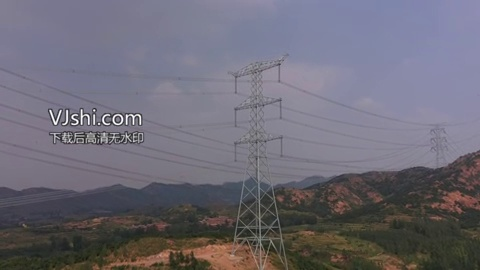tower_body: (223, 52, 301, 270)
tower_foot: (230, 217, 291, 268)
tower_head: (226, 54, 291, 80)
